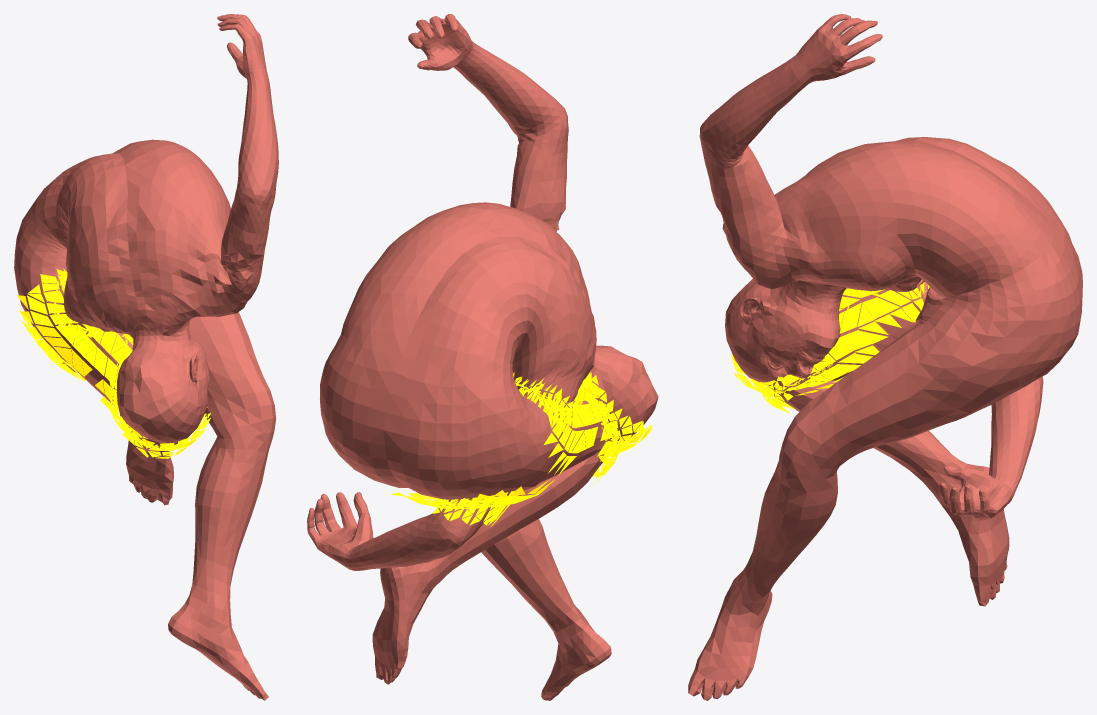
Rendered from hwc_collision_04.glb.
3 renders of one model, left to right at view 1: azimuth 30°, elevation 25°; view 2: azimuth 150°, elevation 25°; view 3: azimuth 270°, elevation 25°, orthographic. The views are drawn at different scales.
Parts seen in each view (by area): view 1: hwc_collision, collision_marker; view 2: hwc_collision, collision_marker; view 3: hwc_collision, collision_marker.
Part boxes in pixels (x1,y1,x2,y2): hwc_collision: [14, 14, 278, 700]; collision_marker: [16, 268, 210, 458]; hwc_collision: [307, 14, 658, 700]; collision_marker: [391, 371, 652, 526]; hwc_collision: [688, 14, 1082, 700]; collision_marker: [730, 282, 929, 413].
Size of the model in its own units: 0.4856 by 1.38 by 0.7018.
